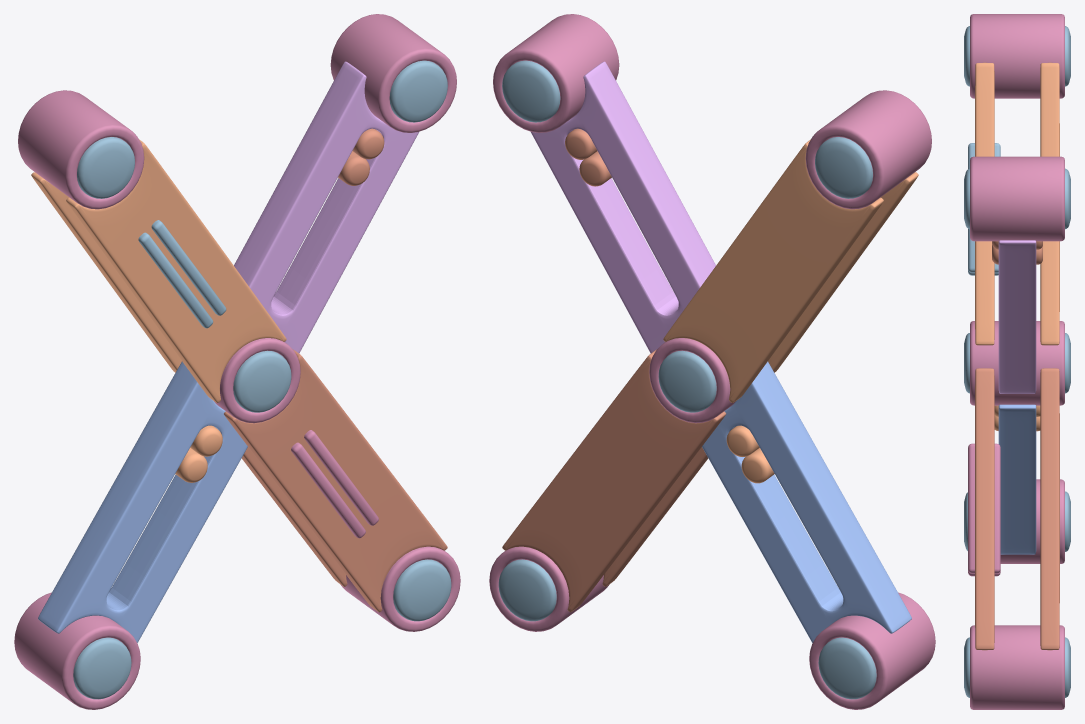
The model's file is operation_-.glb.
3 views of the same model, side by side, from view 1: azimuth 30°, elevation 25°; view 2: azimuth 150°, elevation 25°; view 3: azimuth 270°, elevation 25° (orthographic). The views are drawn at different scales.
Parts seen in each view (by area): view 1: Circle.130; view 2: Circle.130; view 3: Circle.130.
Part boxes in pixels (bbox=[...]): Circle.130: bbox=[14, 14, 460, 709]; Circle.130: bbox=[489, 14, 935, 709]; Circle.130: bbox=[964, 14, 1070, 709].
Size of the model in its own units: 2.33 by 3.26 by 0.5799.
